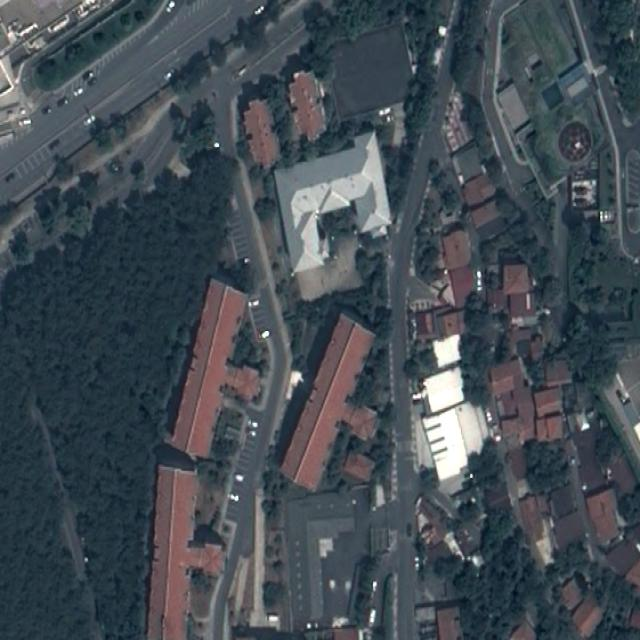Batiment: (281, 315, 378, 488), (275, 132, 391, 272), (171, 280, 260, 457), (148, 465, 222, 639), (422, 402, 488, 481), (469, 438, 510, 511), (514, 495, 554, 566), (289, 71, 326, 141), (561, 576, 602, 637), (415, 489, 458, 547), (244, 101, 280, 168), (500, 387, 535, 447), (586, 489, 619, 544), (424, 367, 464, 412), (452, 143, 482, 184), (606, 540, 640, 576), (491, 360, 524, 397), (442, 230, 471, 269), (554, 512, 584, 549), (449, 265, 474, 308), (342, 451, 375, 482), (464, 175, 495, 207), (432, 334, 460, 368), (502, 263, 531, 294), (534, 387, 562, 418), (436, 606, 461, 640), (471, 200, 500, 228), (550, 486, 575, 518), (536, 415, 564, 442), (545, 360, 572, 387), (561, 578, 582, 610), (509, 292, 535, 317), (439, 310, 464, 336), (506, 447, 526, 479), (625, 558, 640, 594), (510, 620, 536, 640), (332, 626, 359, 640), (530, 336, 544, 360)
